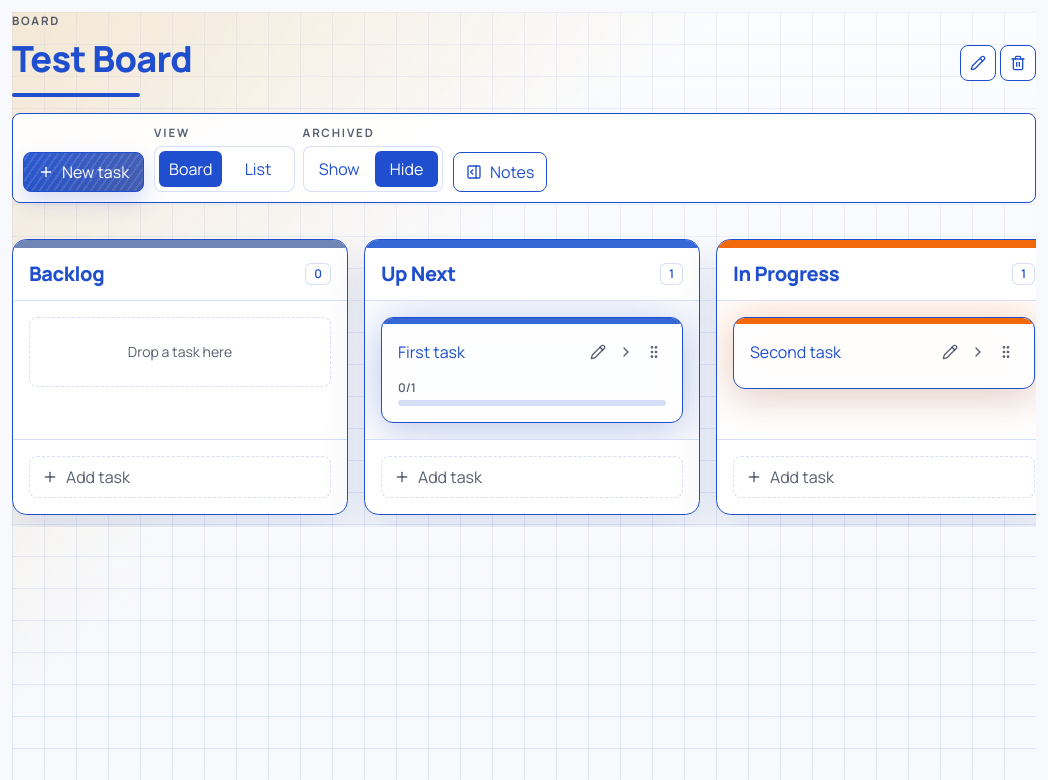
Test: BoardWorkspace drag and drop › deeply restores a drag snapshot and treats a repeated cancel as a no-op
This screenshot has width=1048, height=780.
Step 1. Click the 1st button named "Open subtasks menu" → [626, 352], box [614,340,638,364]
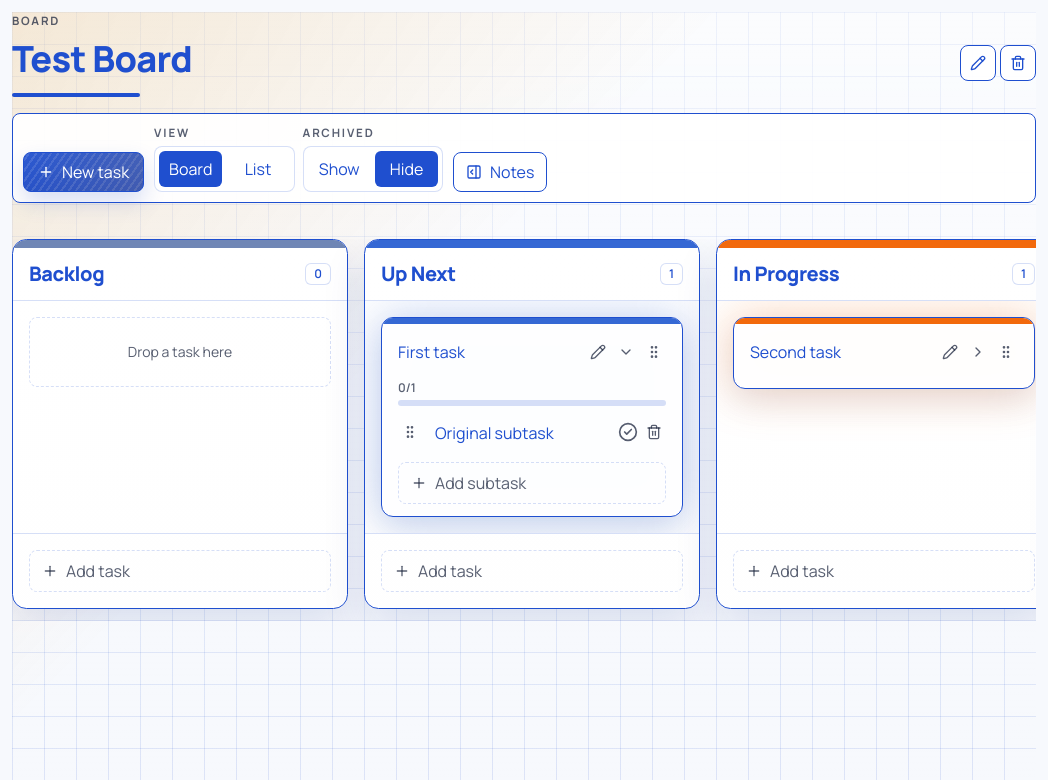
Check: the text box showing "Original subtask" is shown, box [426,416,610,448]
